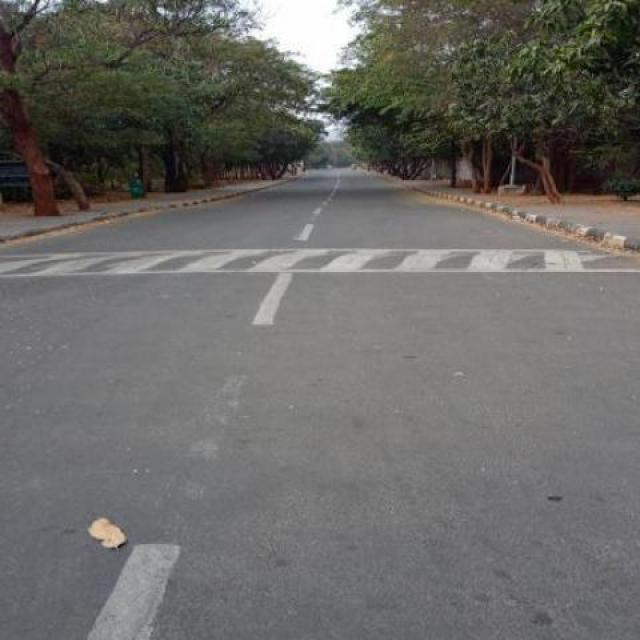Speed Bump: (1, 246, 638, 280)
